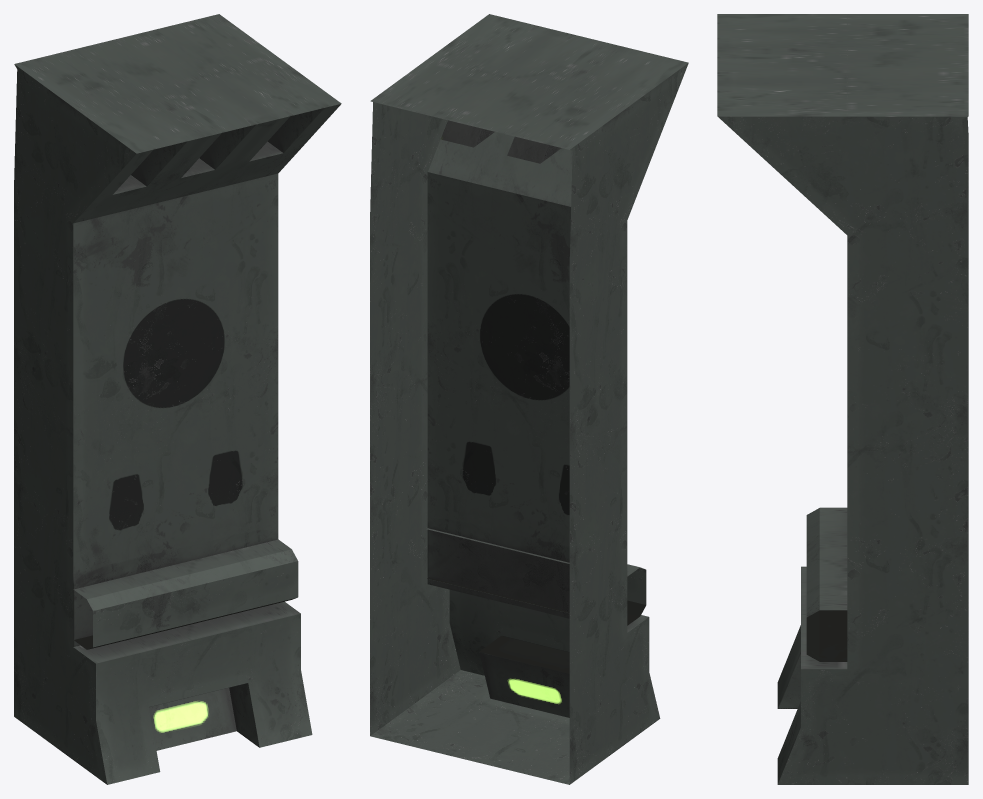
Rendered from cantina_wall.glb.
3 views of the same model, side by side, from view 1: azimuth 30°, elevation 25°; view 2: azimuth 150°, elevation 25°; view 3: azimuth 270°, elevation 25° (orthographic). The views are drawn at different scales.
Visible parts, largest first — view 1: WallV1.008; view 2: WallV1.008; view 3: WallV1.008.
Part boxes in pixels (x1,y1,x2,y2): WallV1.008: (14, 14, 341, 784); WallV1.008: (370, 14, 688, 784); WallV1.008: (717, 14, 968, 784).
Size of the model in its own units: 2 by 6.08 by 2.07.
1 material, 1 textured.
